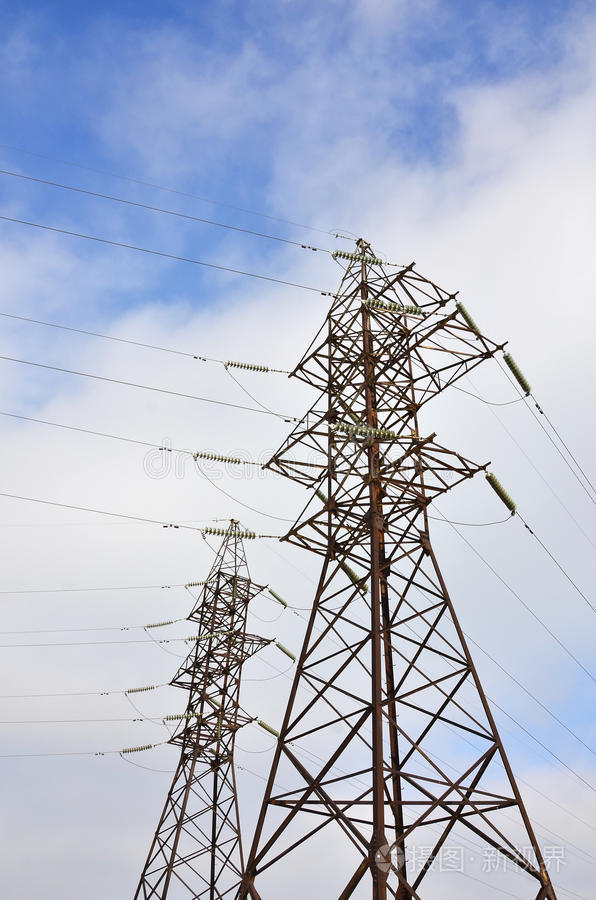insulator: (481, 471, 517, 515), (363, 295, 425, 318), (499, 353, 531, 395), (332, 248, 385, 267), (336, 422, 392, 437), (453, 300, 478, 330)
